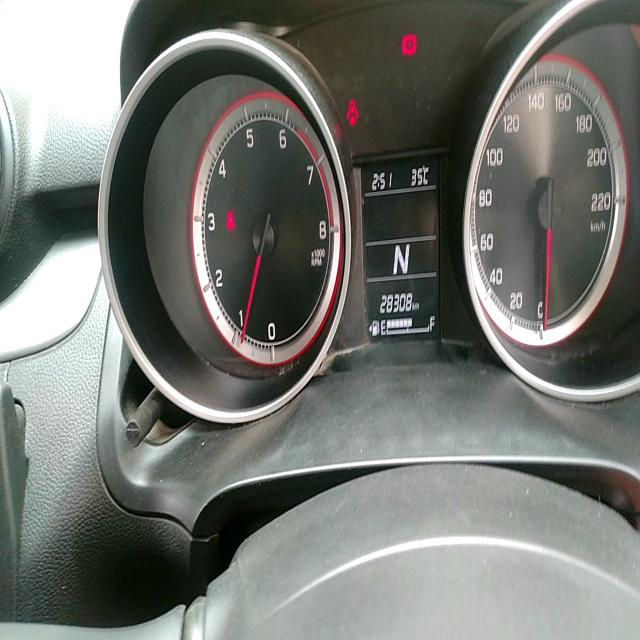odometer: (377, 288, 416, 320)
